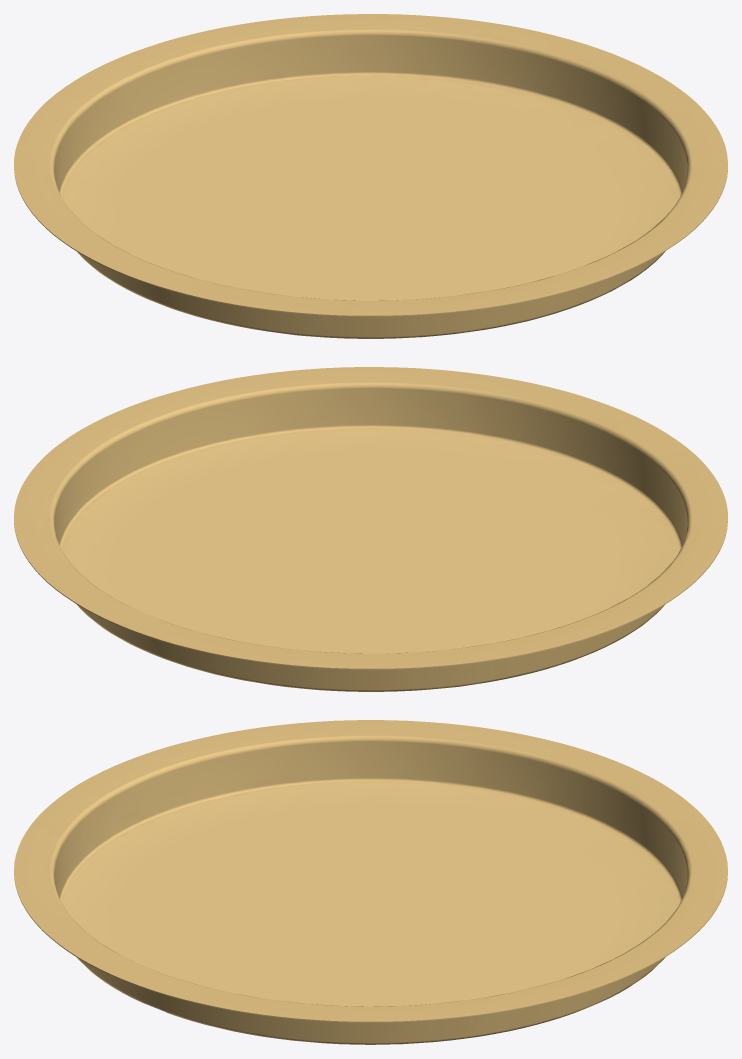
Rendered from LB-TRAY-02.glb.
3 views of the same model, one above another, from view 1: azimuth 30°, elevation 25°; view 2: azimuth 150°, elevation 25°; view 3: azimuth 270°, elevation 25° (orthographic).
Visible parts, largest first — view 1: model; view 2: model; view 3: model.
Part boxes in pixels (left/top/right/bottom): model: left=14, top=14, right=727, bottom=338; model: left=14, top=367, right=727, bottom=691; model: left=14, top=720, right=727, bottom=1044.
Bounding box in the file's own units: 0.378 × 0.0249 × 0.378.
Materials: 1 (1 with a texture image).
